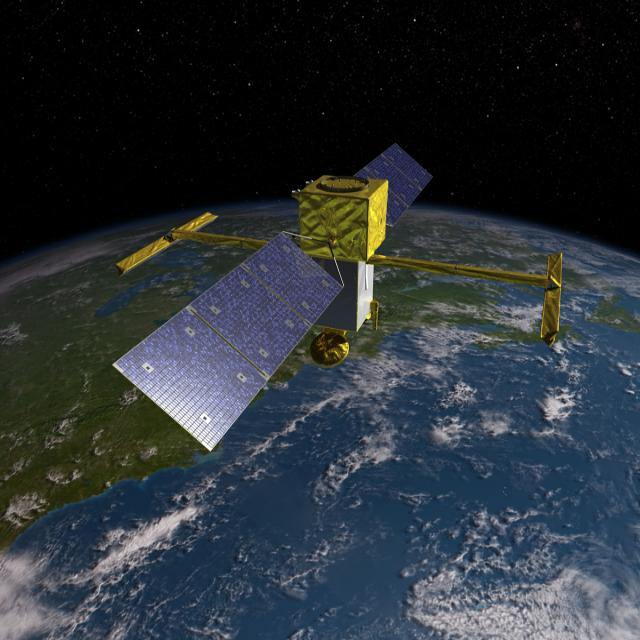satellite: (107, 123, 565, 464)
